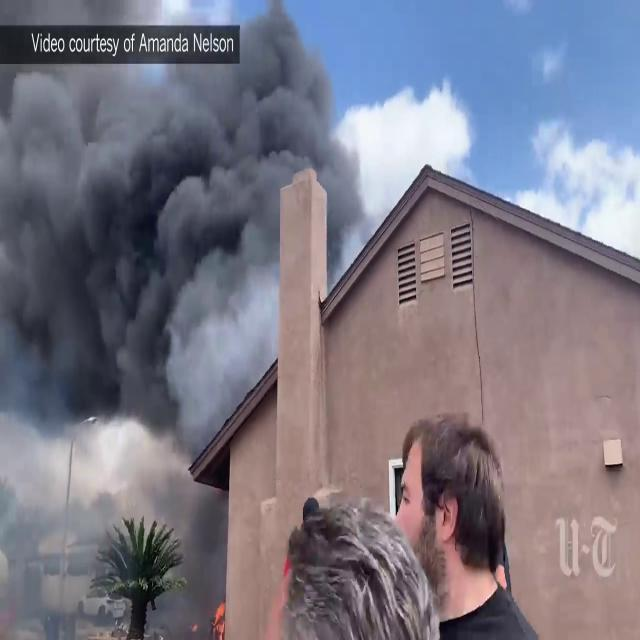Smoke: (0, 0, 338, 572)
